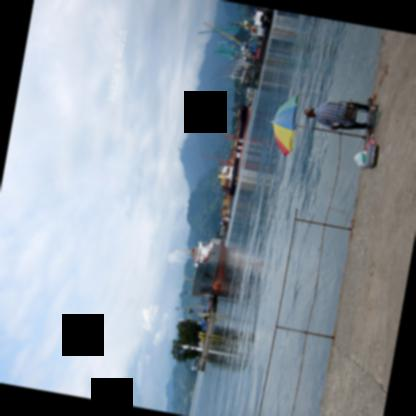suitcase: (364, 143, 378, 167)
